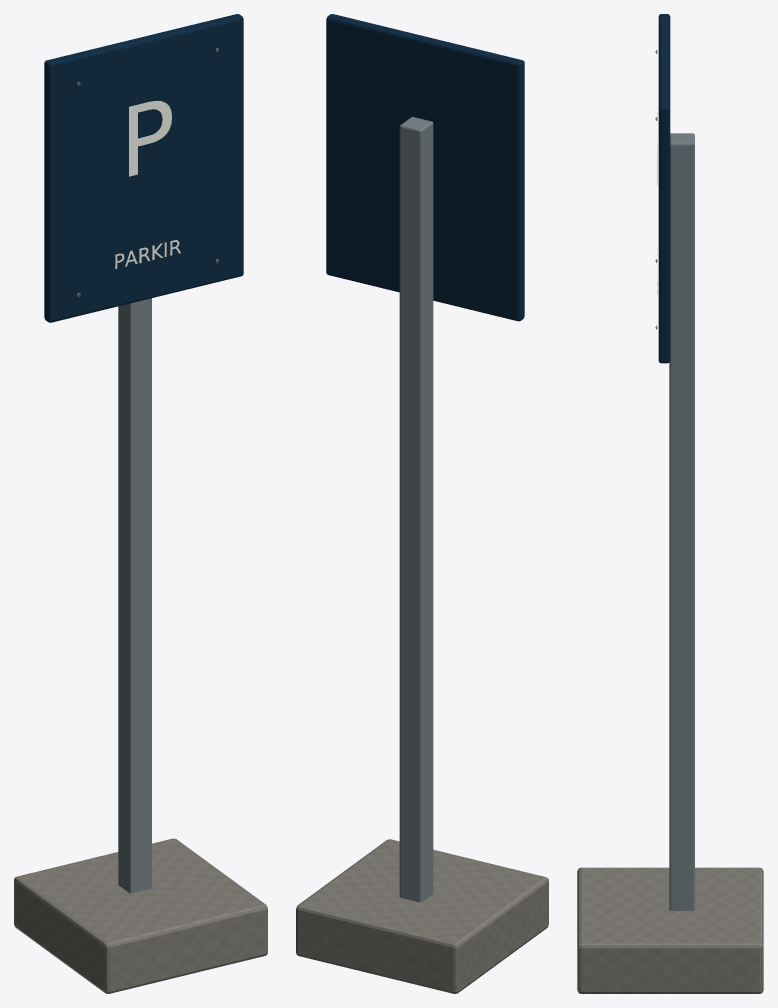
The model's file is OAA_Papan_Parkir.fbx.
3 views of the same model, side by side, from view 1: azimuth 30°, elevation 25°; view 2: azimuth 150°, elevation 25°; view 3: azimuth 270°, elevation 25° (orthographic).
Parts seen in each view (by area): view 1: Body; view 2: Body; view 3: Body.
Part boxes in pixels (x1=…): Body: x1=14, y1=14, x2=267, y2=993; Body: x1=296, y1=14, x2=548, y2=993; Body: x1=577, y1=14, x2=763, y2=993.
Size of the model in its own units: 0.48 by 2.13 by 0.4.
